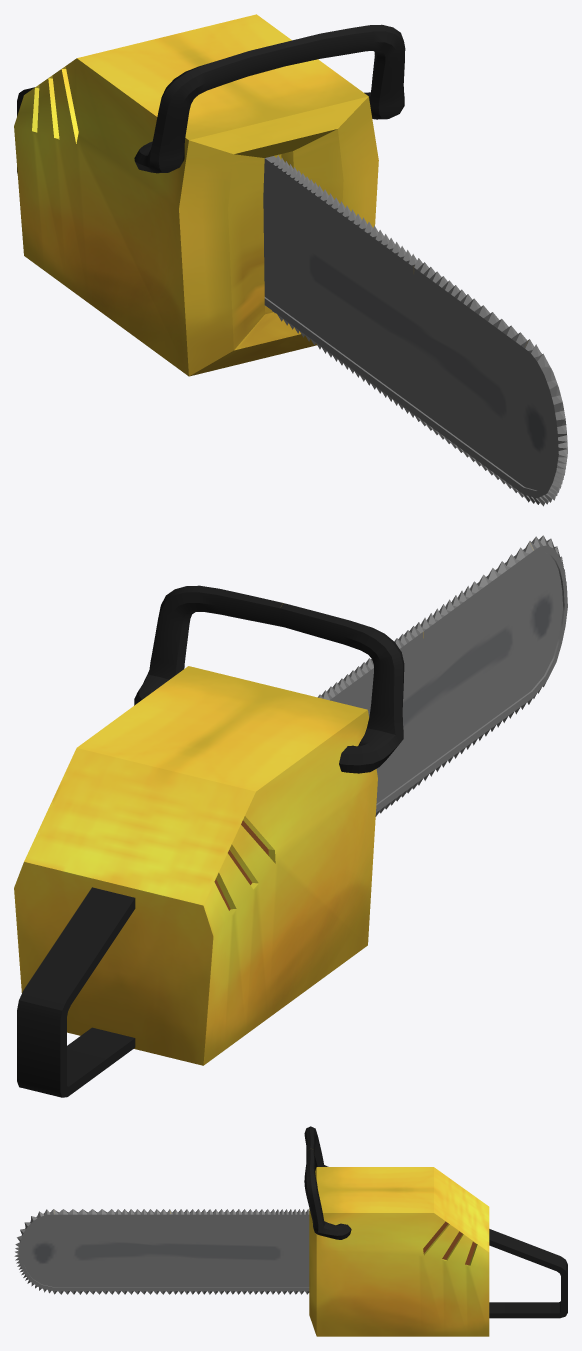
The model's file is Motosserra.fbx.
The picture shows the model from 3 angles, top to bottom: view 1: azimuth 30°, elevation 25°; view 2: azimuth 150°, elevation 25°; view 3: azimuth 270°, elevation 25°; orthographic projection. The views are drawn at different scales.
Visible parts, largest first — view 1: Motoserra; view 2: Motoserra; view 3: Motoserra.
Part boxes in pixels (box(x1,y1,x2,y2)): Motoserra: box(14, 14, 567, 506); Motoserra: box(14, 535, 567, 1097); Motoserra: box(14, 1126, 567, 1336).
Bounding box in the file's own units: 9.89 × 11.74 × 35.57.
1 material, 1 textured.
